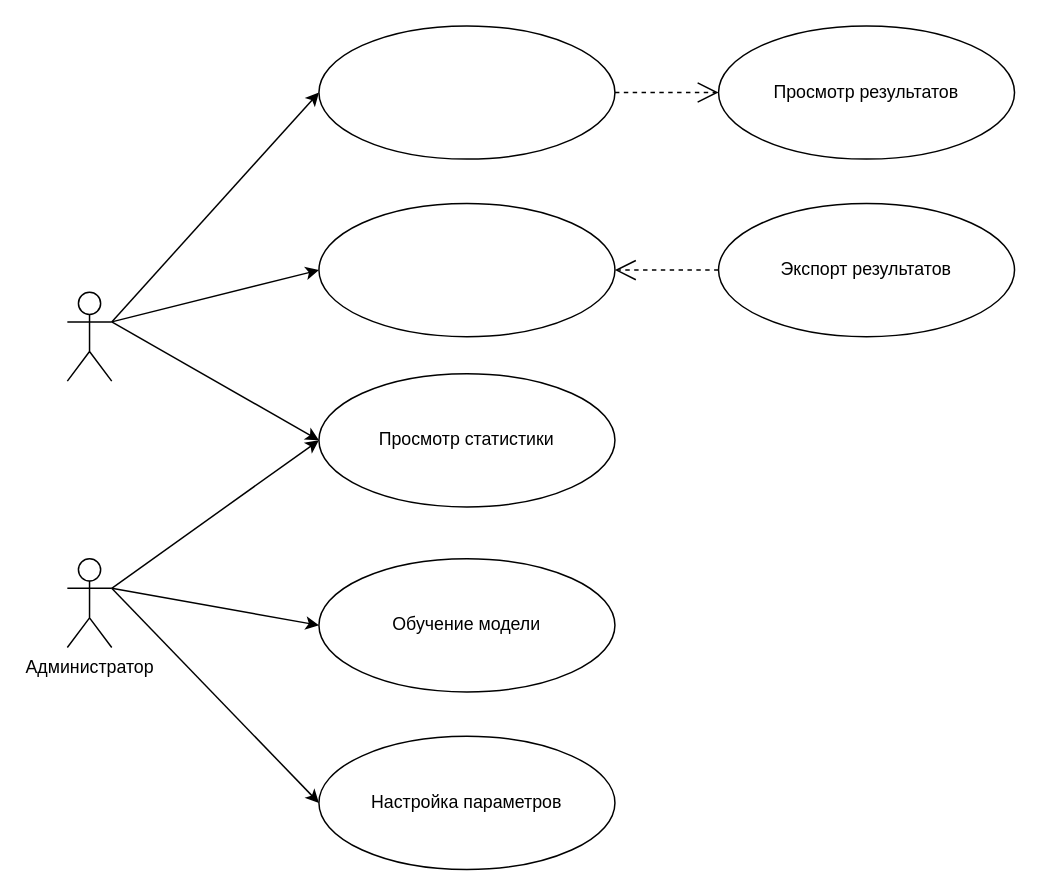
The diagram is 1040 pixels wide and 895 high, and some of its shapes have lost their labels. The shapes that lost their labels are listed below. From the top down, each one's box as (x1, y1, x2, y2) in pixels, then its label:
(317, 24, 615, 159): Поиск документов
(317, 202, 615, 337): Создание выжимки
(66, 291, 112, 381): Пользователь
